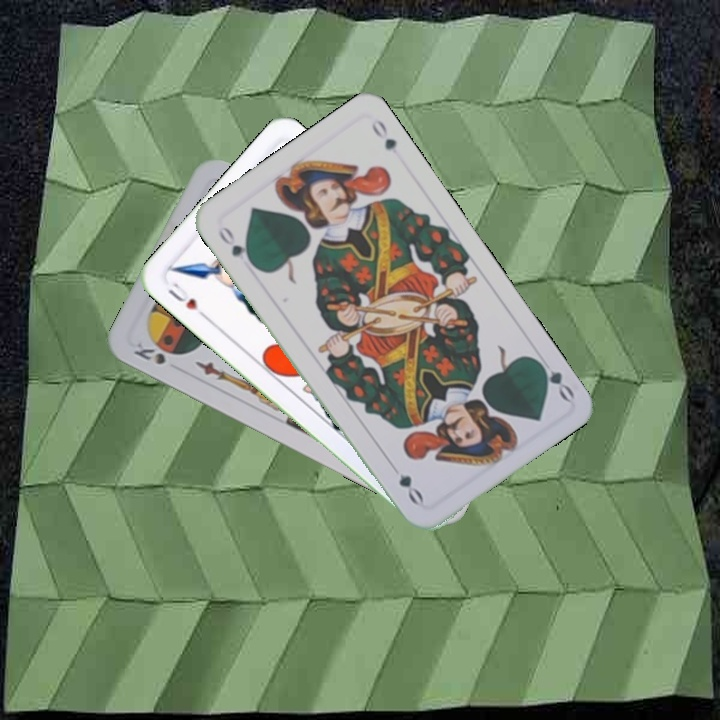GO: (531, 351, 577, 404), (213, 222, 257, 269)
HU: (164, 278, 209, 321)
SK: (129, 337, 168, 367)
